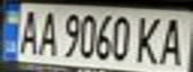0: (112, 12, 136, 63), (78, 10, 96, 61)
6: (93, 11, 115, 62)
9: (57, 9, 81, 58)
A: (157, 14, 190, 66), (33, 7, 60, 56), (15, 7, 42, 55)
K: (133, 12, 166, 65)
